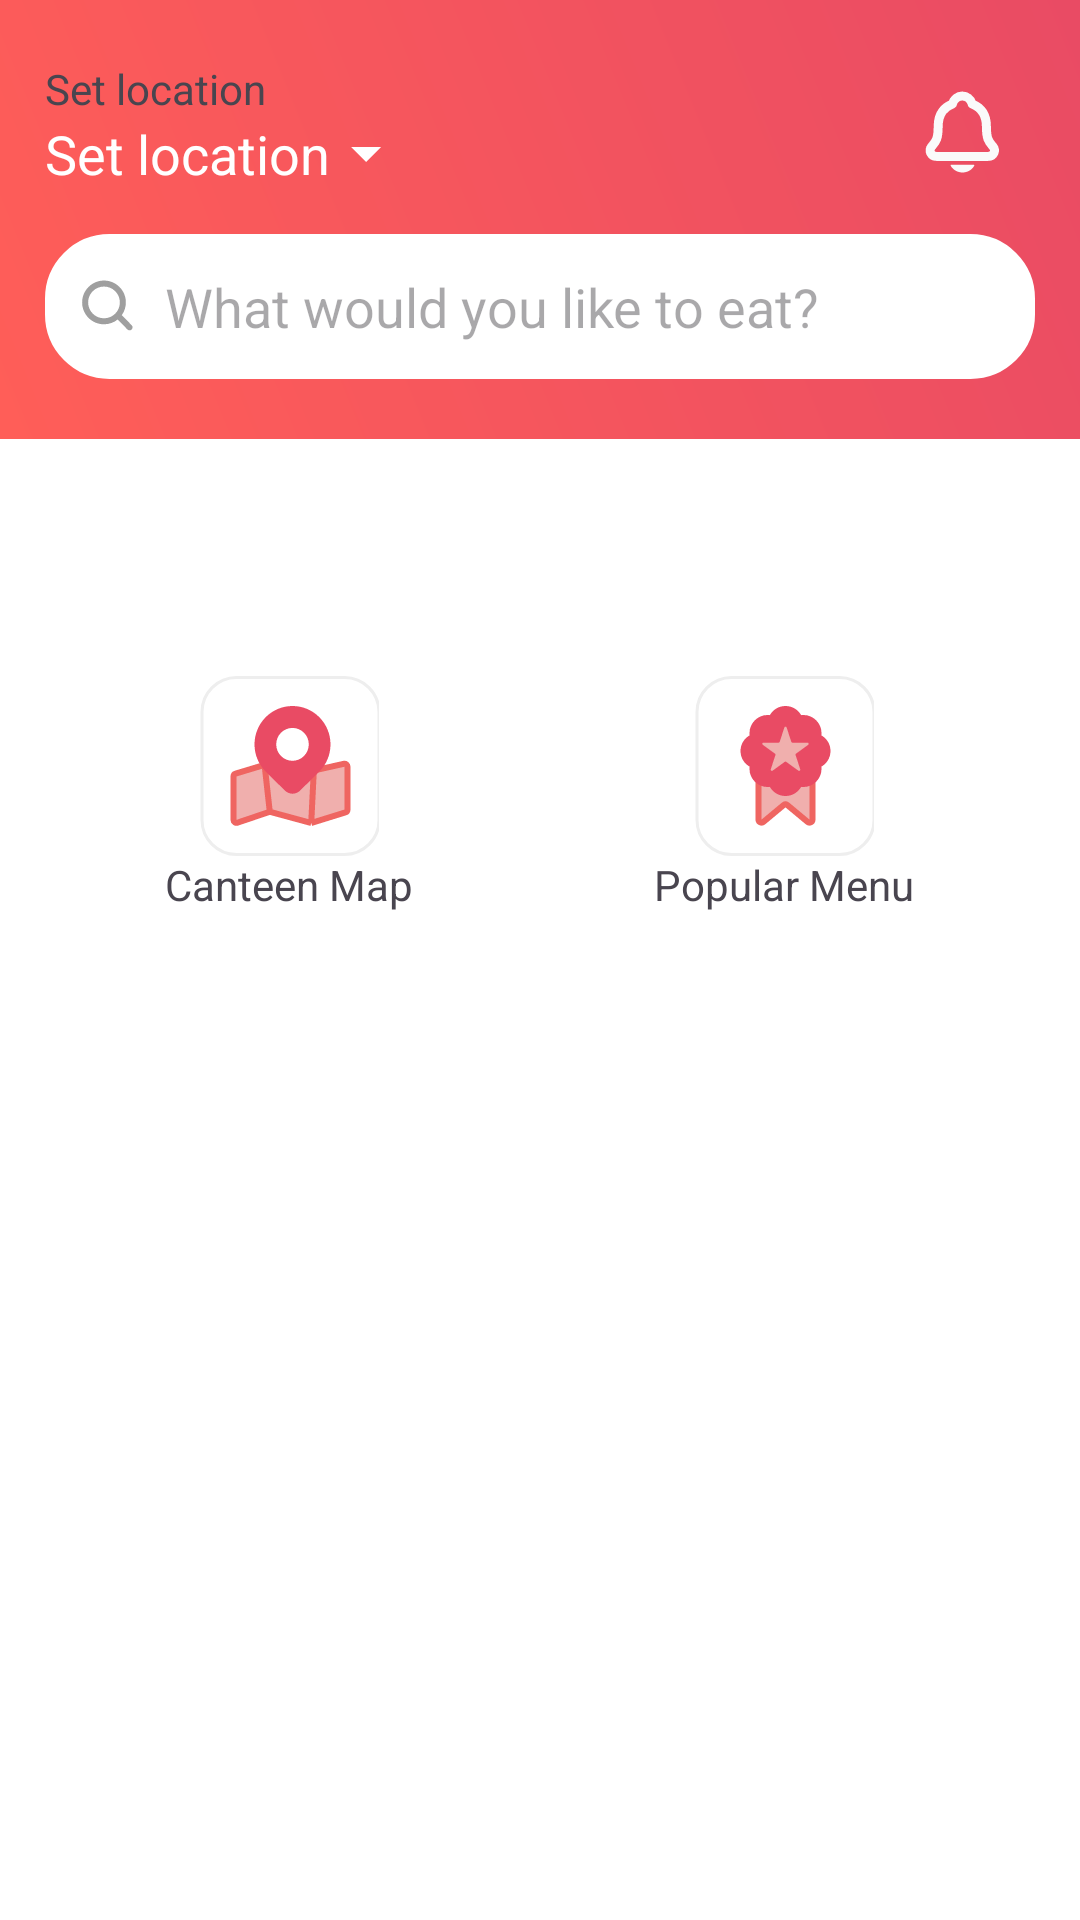

Icons on this 1080 x 1920 Android screen, each with its box as (x1, y1, x2, y2):
notification: (925, 91, 999, 173)
